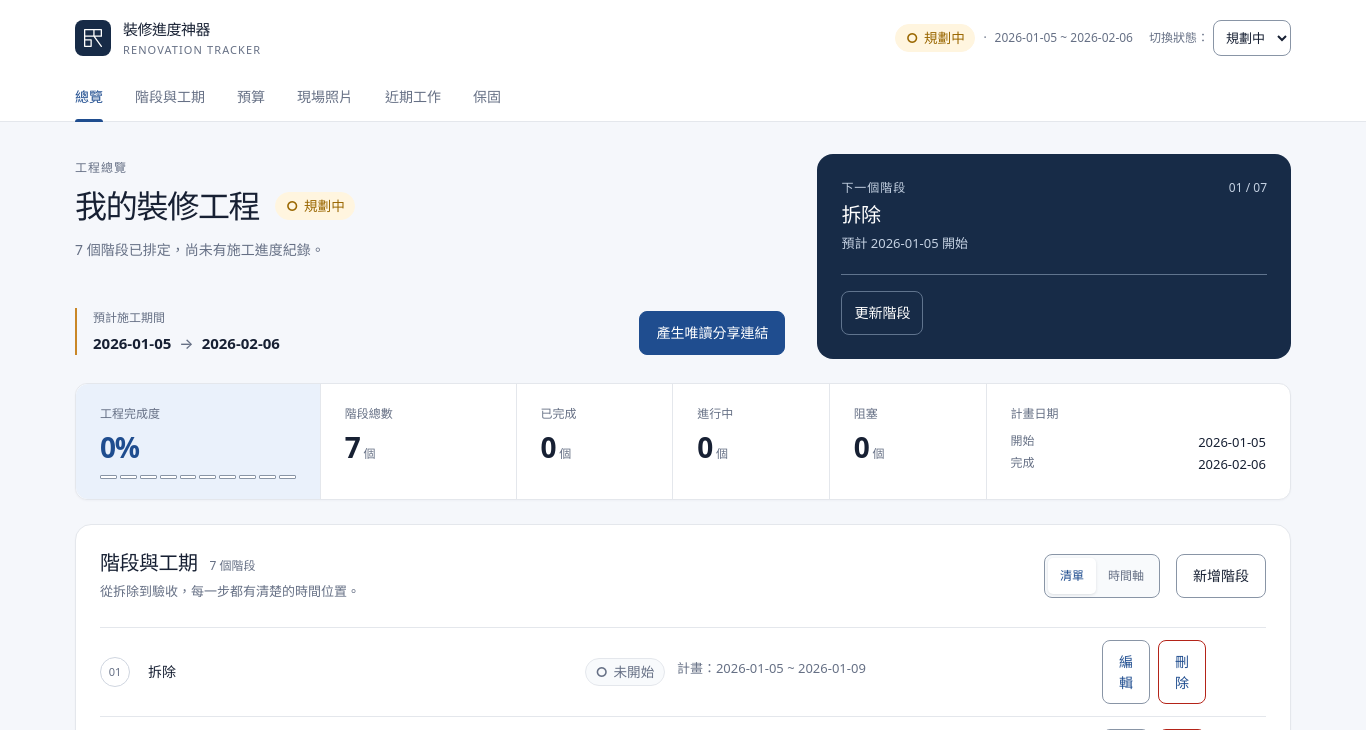
Test: Dashboard — AC-FR001-04 form validation › rejects start after end with a readable error
The width and height of the screenshot is (1366, 730).
Step 1. Click the button with test id "add-stage" → (1221, 576), box [1176,554,1266,598]
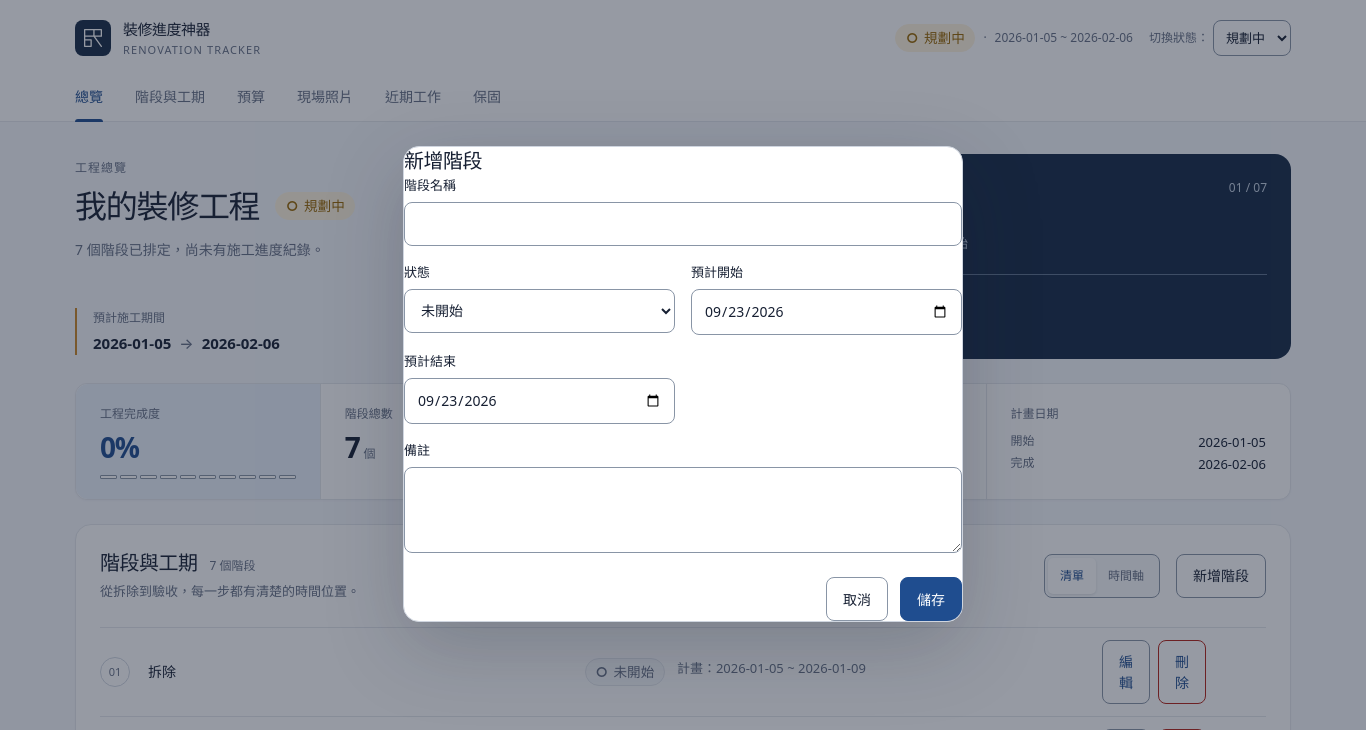
Step 2. Type "壞日期" into the field labelled "階段名稱" → (683, 224), box [404,202,962,246]
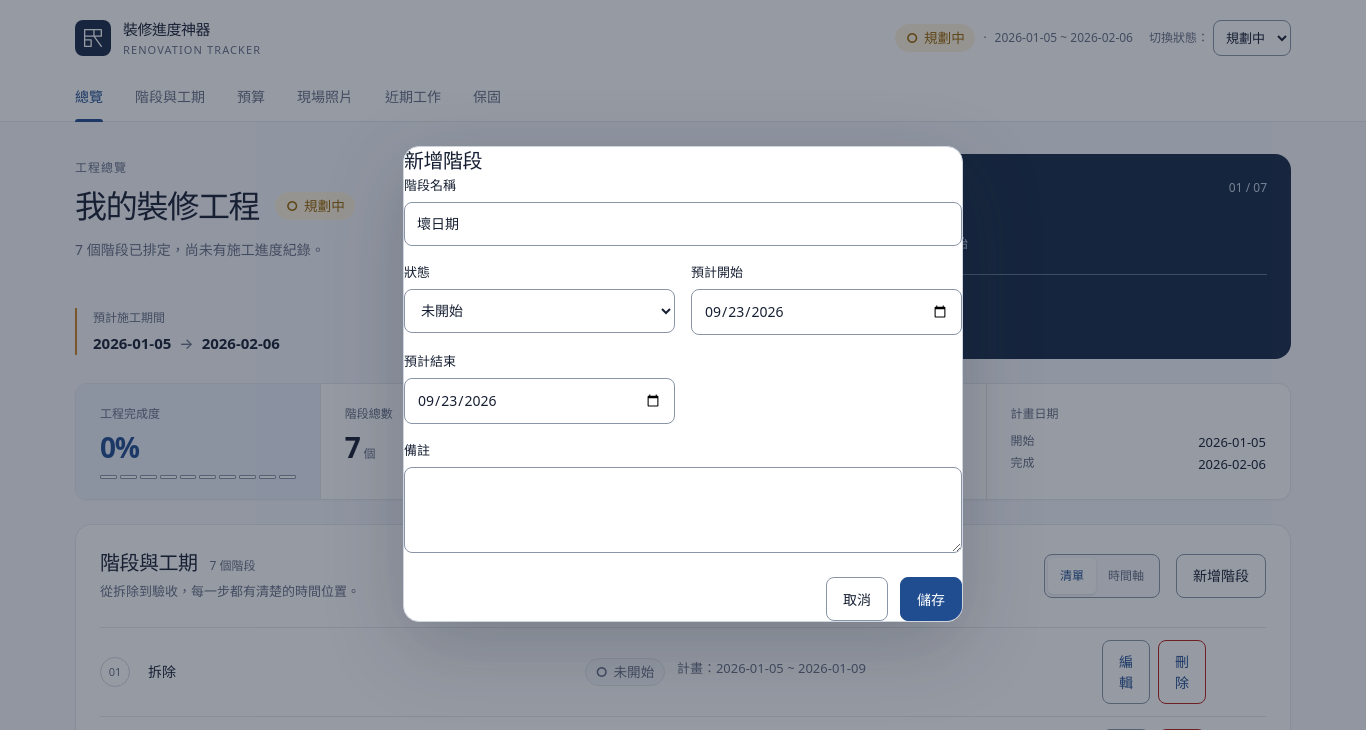
Step 3. Type "2026-02-15" into the date field labelled "預計開始" → (826, 312), box [691,289,962,335]
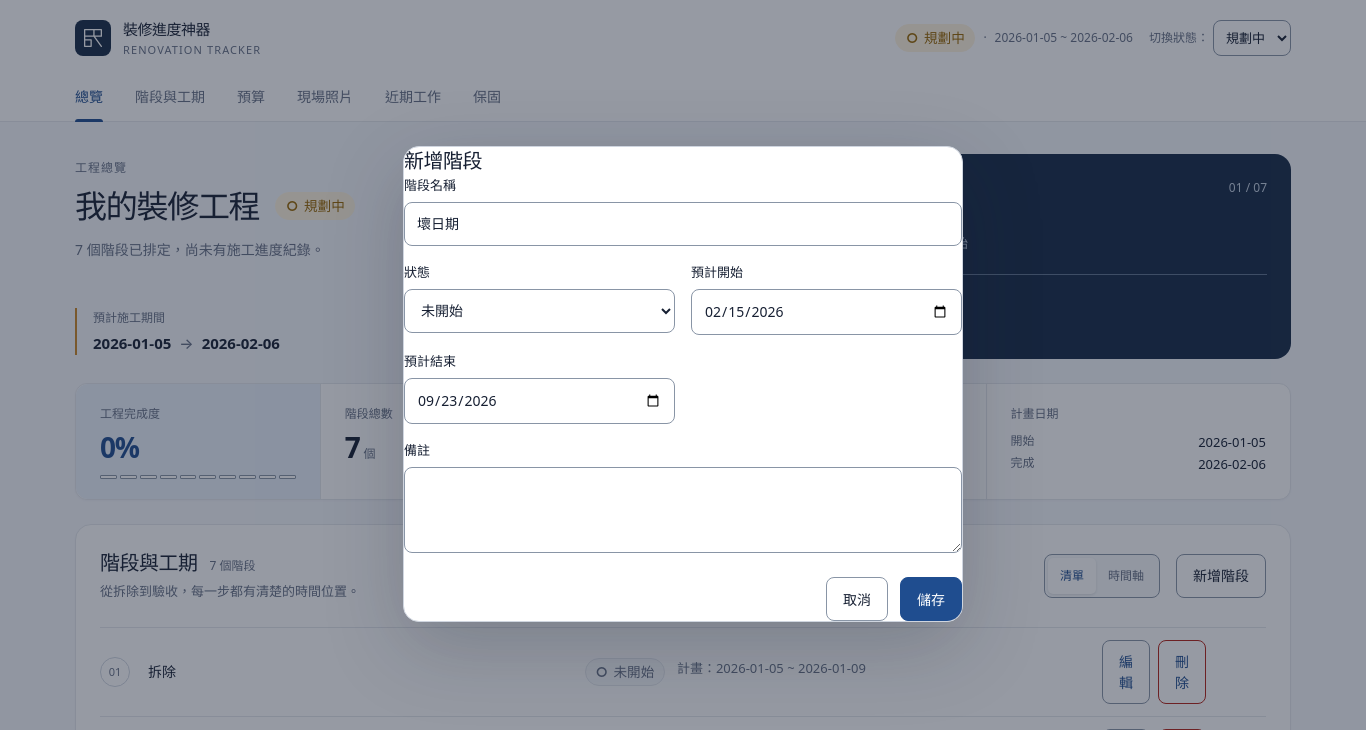
Step 4. Type "2026-02-09" into the date field labelled "預計結束" → (540, 401), box [404,378,675,424]
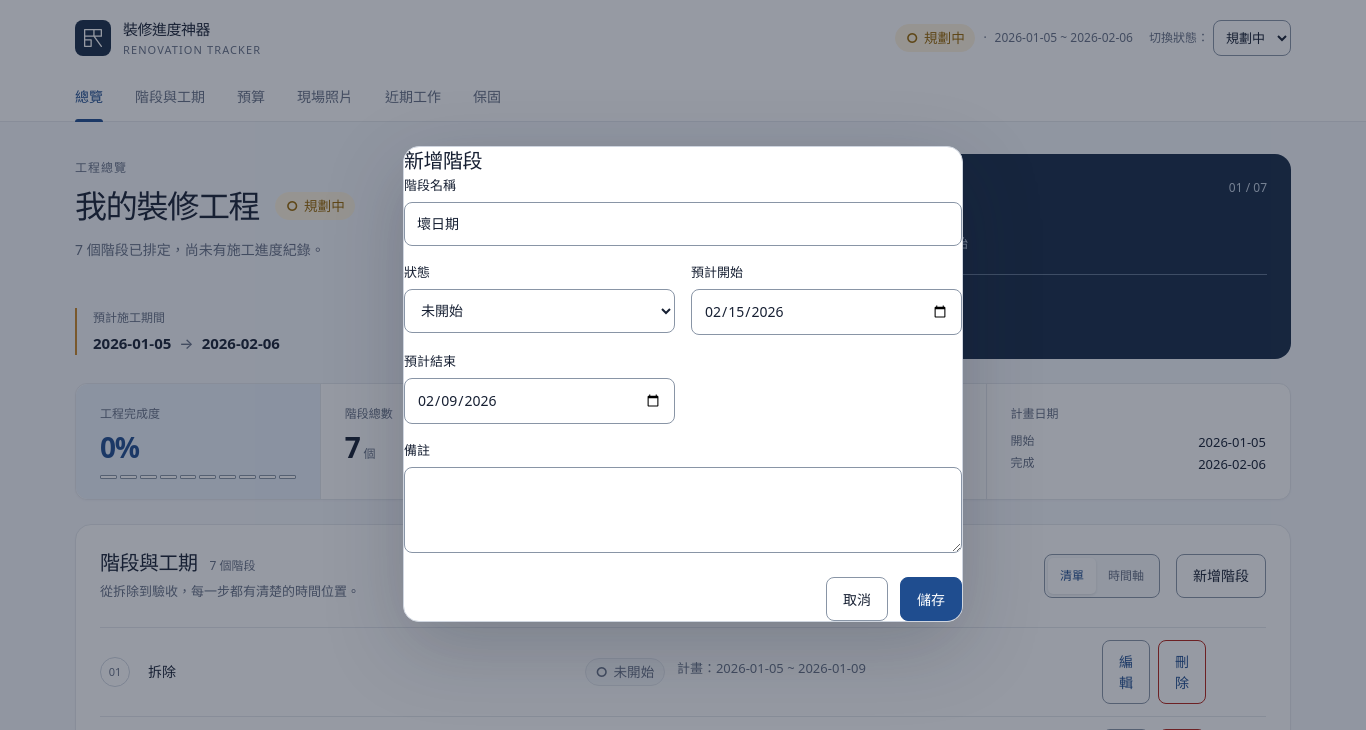
Step 5. Click the button "儲存" → (931, 599), box [900,577,962,621]
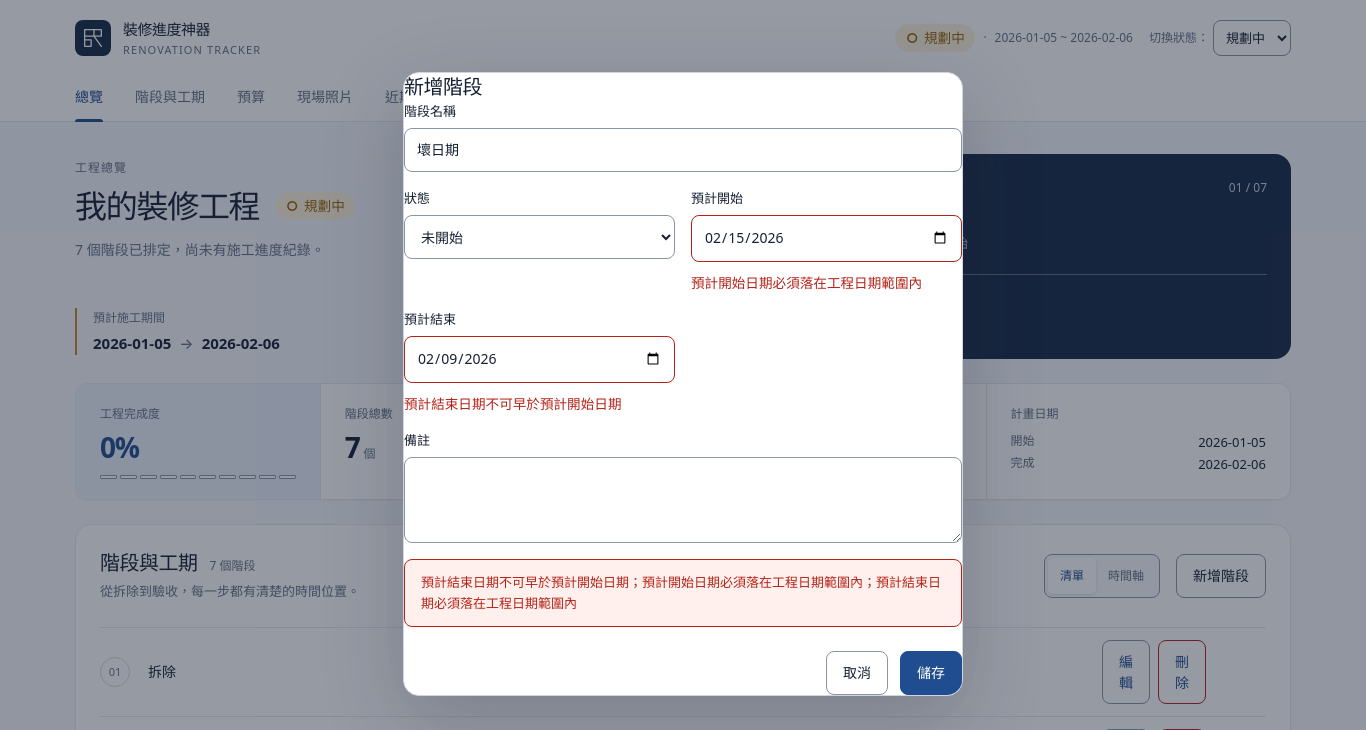
Check: the text with test id "total-stages" reads "7", box [345,428,360,466]
Check: the text "預計結束日期不可早於預計開始日期" is shown, box [404,394,622,413]
